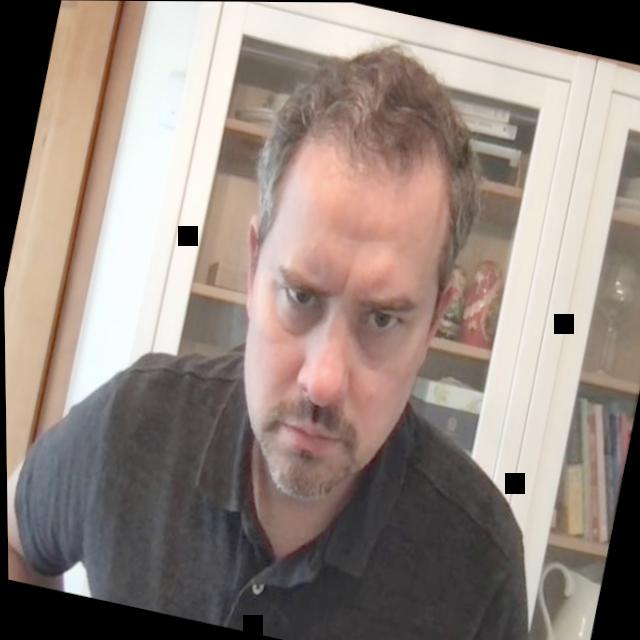NO-Mask: (187, 18, 509, 533)
